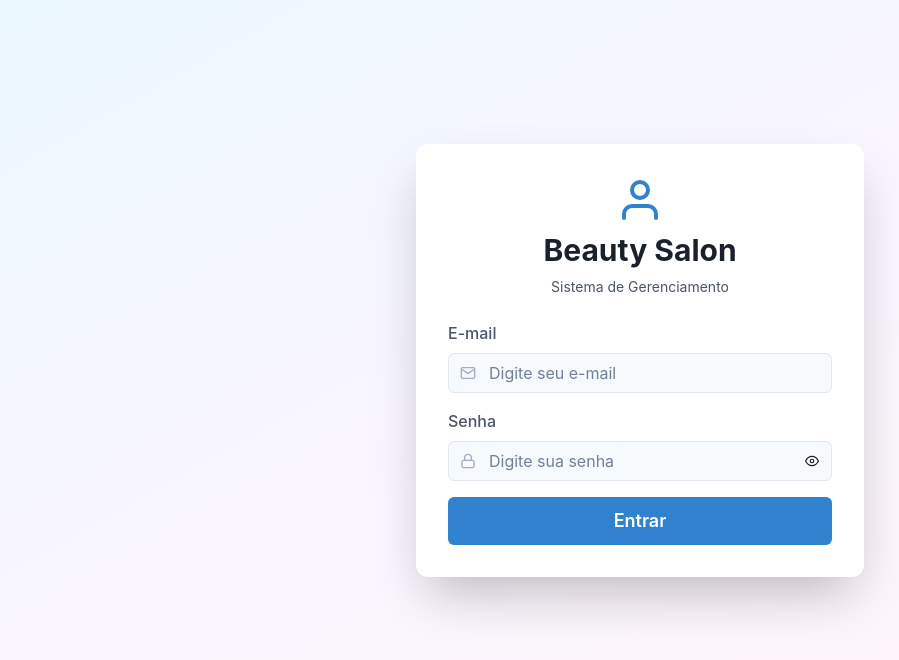
Test: 🔐 Login - Autenticação › ✅ Validação de Formulário › T004: Deve validar email obrigatório
The image size is (899, 660).
Click the button "Entrar": (640,520) 448,496 -> 832,544
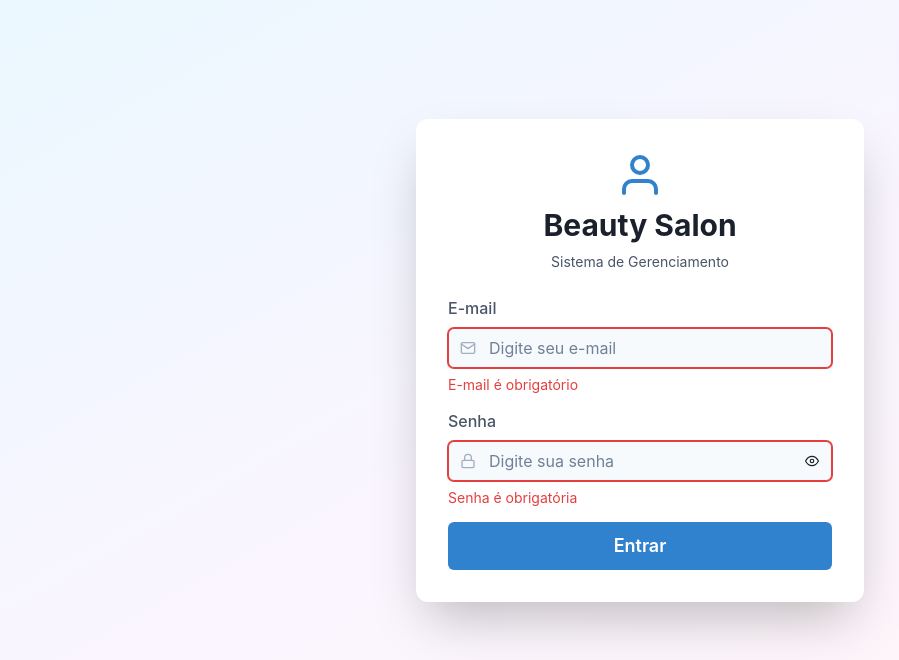
Check: the text "E-mail é obrigatório" is shown, box 448,376 -> 578,392
